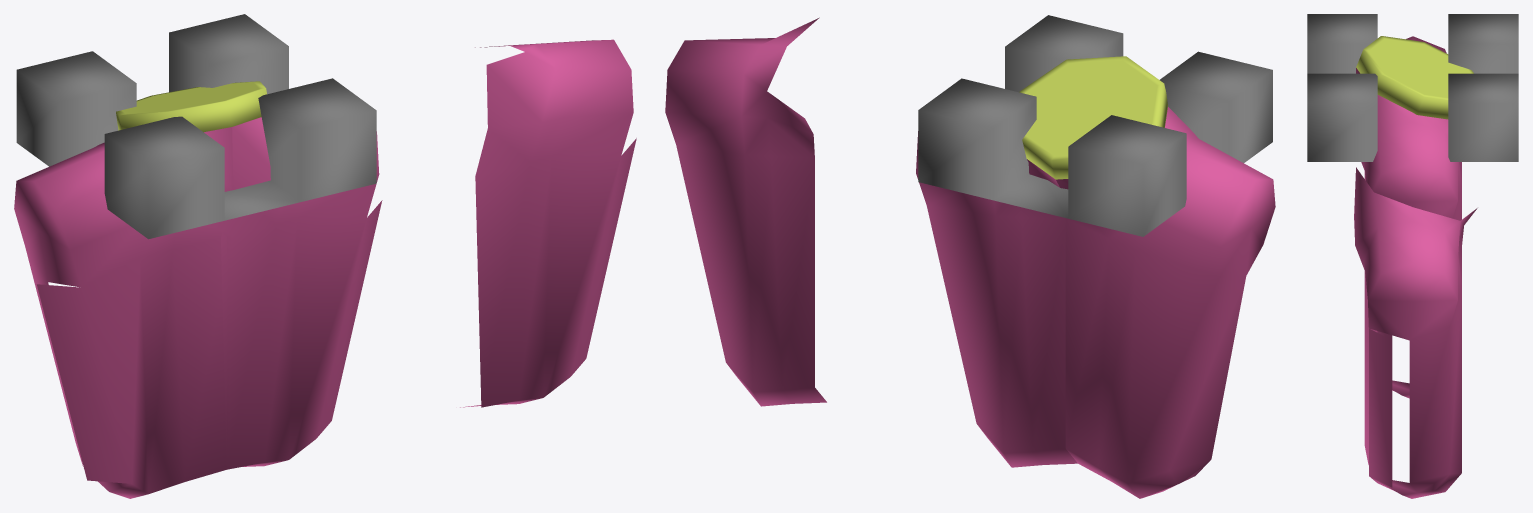
The model's file is Player.gltf.
The picture shows the model from 3 angles, left to right: view 1: azimuth 30°, elevation 25°; view 2: azimuth 150°, elevation 25°; view 3: azimuth 270°, elevation 25°; orthographic projection. The views are drawn at different scales.
Parts seen in each view (by area): view 1: Cylinder003, Cylinder007, Plane001, Cylinder006, Cylinder005; view 2: Cylinder003, Cylinder007, Plane001, Cylinder006, Cylinder005; view 3: Cylinder007, Plane001, Cylinder006, Cylinder005.
Boxes of the visible parts, x1,y1,x2,y2 form: Cylinder003: [14, 127, 233, 498]; Cylinder007: [460, 39, 636, 407]; Plane001: [16, 14, 376, 239]; Cylinder006: [221, 117, 382, 469]; Cylinder005: [116, 81, 266, 132]; Cylinder003: [1056, 107, 1275, 498]; Cylinder007: [665, 17, 826, 406]; Plane001: [918, 15, 1272, 236]; Cylinder006: [916, 131, 1077, 467]; Cylinder005: [1019, 56, 1167, 179]; Cylinder007: [1354, 167, 1477, 498]; Plane001: [1307, 14, 1518, 161]; Cylinder006: [1356, 68, 1461, 398]; Cylinder005: [1356, 36, 1473, 119].
Size of the model in its own units: 52.58 by 33.79 by 20.
